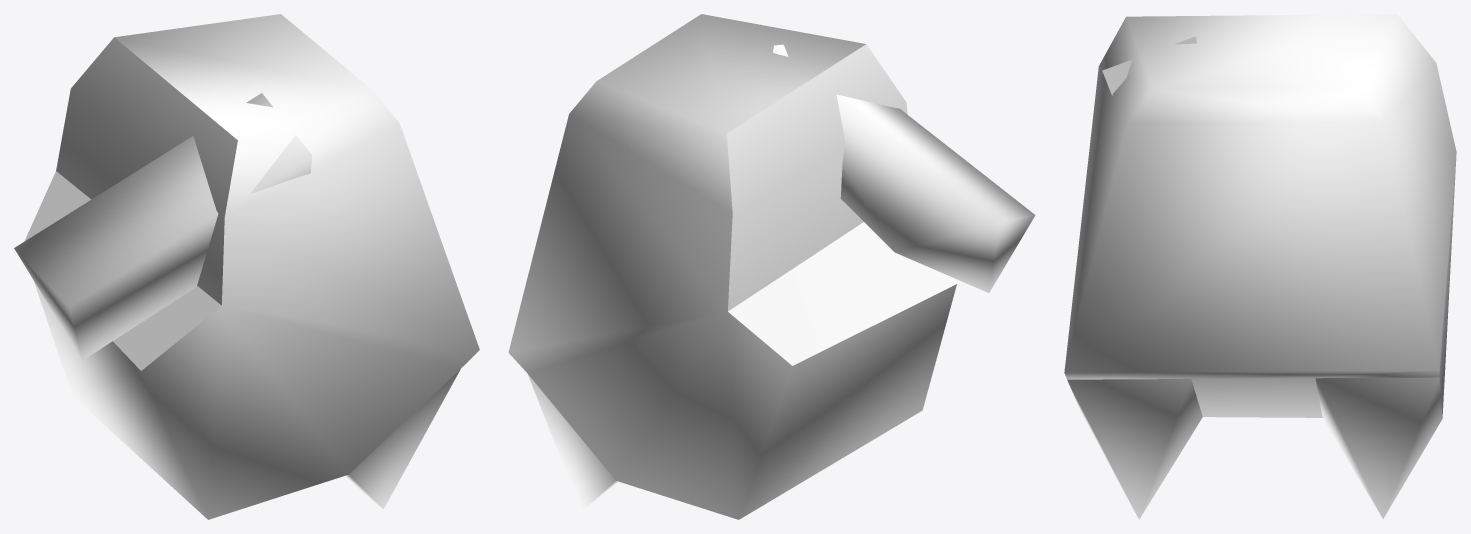
Rendered from HandLeft.obj.
3 views of the same model, side by side, from view 1: azimuth 30°, elevation 25°; view 2: azimuth 150°, elevation 25°; view 3: azimuth 270°, elevation 25° (orthographic). The views are drawn at different scales.
Size of the model in its own units: 7.9 by 8.13 by 6.63.
Materials: 1 (1 with a texture image).
